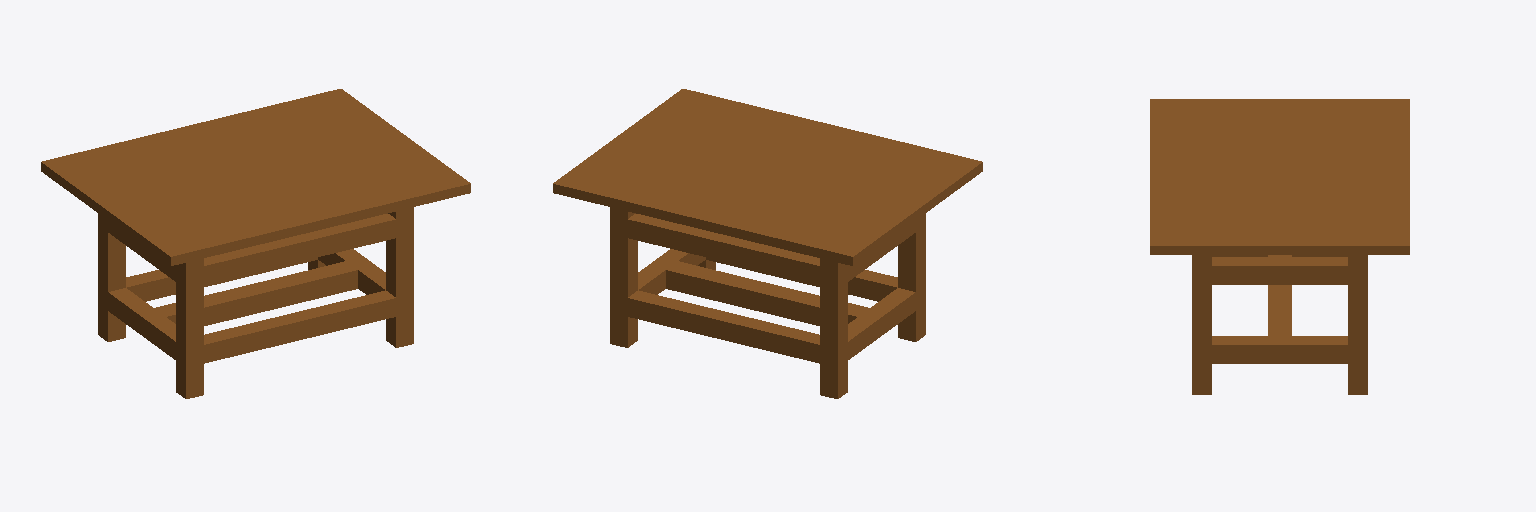
3 views of the same model, side by side, from view 1: azimuth 30°, elevation 25°; view 2: azimuth 150°, elevation 25°; view 3: azimuth 270°, elevation 25° (orthographic).
Visible parts, largest first — view 1: Workshop_table_88; view 2: Workshop_table_88; view 3: Workshop_table_88.
Part boxes in pixels (x1,y1,x2,y2): Workshop_table_88: (41, 89, 470, 398); Workshop_table_88: (553, 89, 982, 398); Workshop_table_88: (1150, 99, 1409, 394).
Size of the model in its own units: 10 by 5.3 by 7.5.
1 materials, 1 textured.